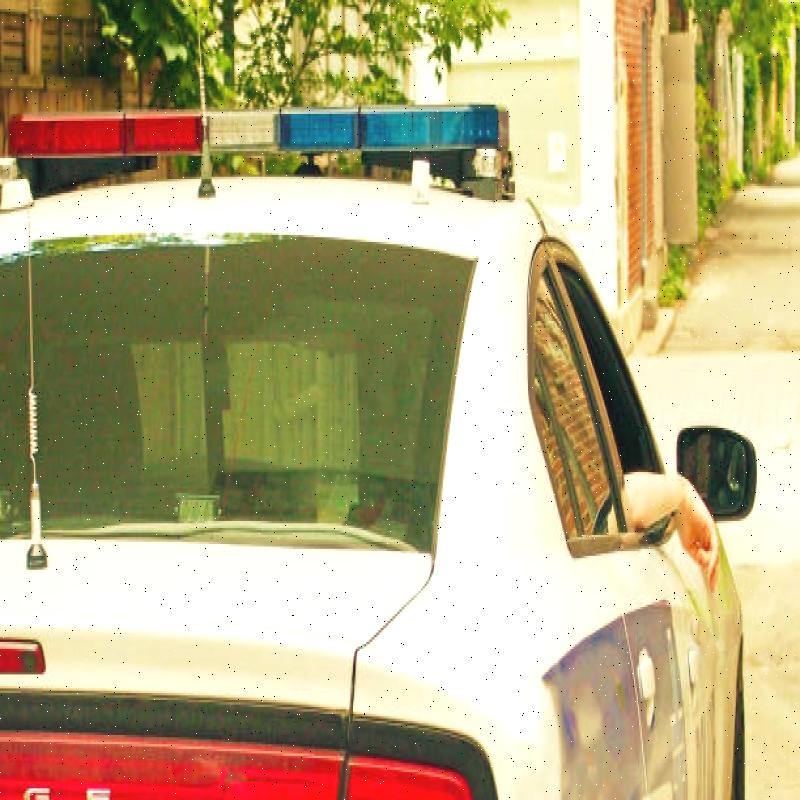AmbulanceSiren: (5, 90, 515, 193)
